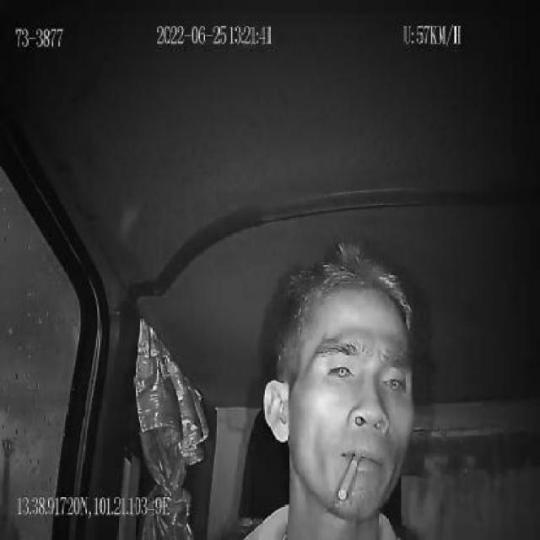smoking: (337, 452, 362, 502)
